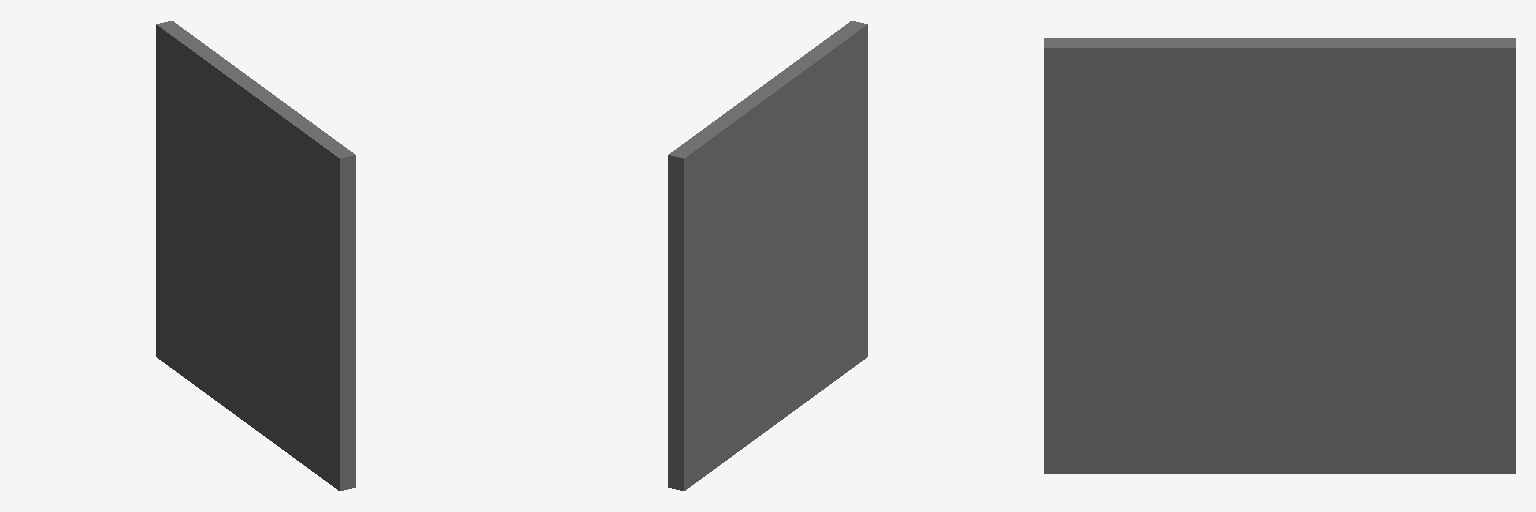
URDF robot description (wall.urdf):
<?xml version="1.0" ?>
<robot name="wall.urdf">
  <link name="wall">
    <contact>
      <lateral_friction value="0.5"/>
      <inertia_scaling value="1.0"/>
    </contact>
    <inertial>
      <origin rpy="0 0 0" xyz="0 0 0"/>
       <mass value="50"/>
       <inertia ixx="1" ixy="0" ixz="0" iyy="1" iyz="0" izz="1"/>
    </inertial>
    <visual>
      <origin rpy="0 0 0" xyz="0 0 0"/>
      <geometry>
        <box size="0.1 2 2"/>
      </geometry>
       <material name="white">
        <color rgba="0.5 0.5 0.5 1"/>
      </material>
    </visual>
    <collision>
      <origin rpy="0 0 0" xyz="0 0 0"/>
      <geometry>
        <box size="0.1 2 2"/>
      </geometry>
    </collision>
  </link>
</robot>

--- Facts derived from the render (not from the file) ---
3 views of the same robot in one strip: view 1: azimuth 30°, elevation 25°; view 2: azimuth 150°, elevation 25°; view 3: azimuth 270°, elevation 25° (orthographic).
Robot: wall.urdf — 1 links, 0 joints (none); root link wall; default pose: all joints at 0.
Links seen in each view (by area): view 1: wall; view 2: wall; view 3: wall.
Boxes of the visible links, x1,y1,x2,y2 form: wall: (156,21,355,490); wall: (668,21,867,490); wall: (1044,38,1515,473).
Bounding box of the posed robot: 0.1 × 2 × 2 m (x, y, z).
Geometry: primitives only (box / cylinder / sphere), no mesh files.